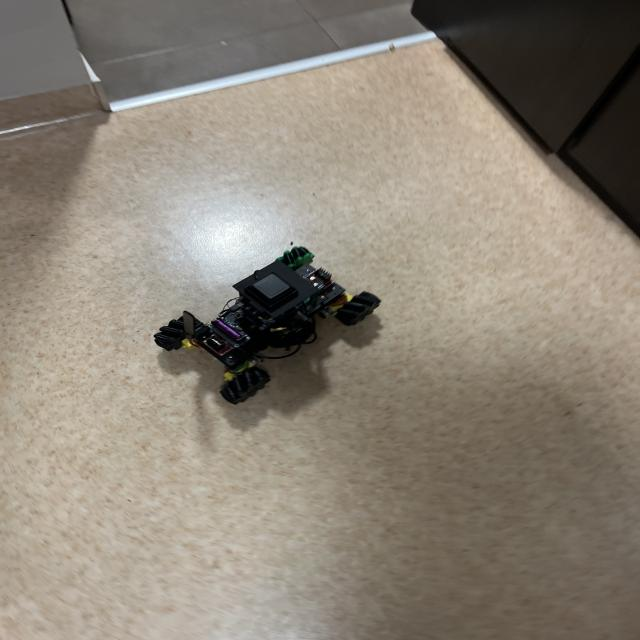robot: (154, 246, 381, 404)
